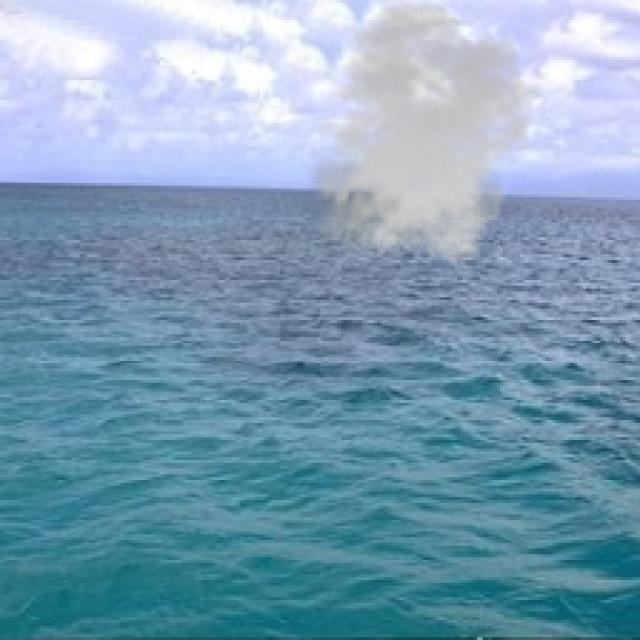Smoke: (303, 0, 541, 272)
